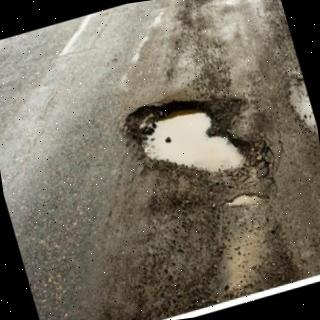pothole: (125, 98, 271, 177)
